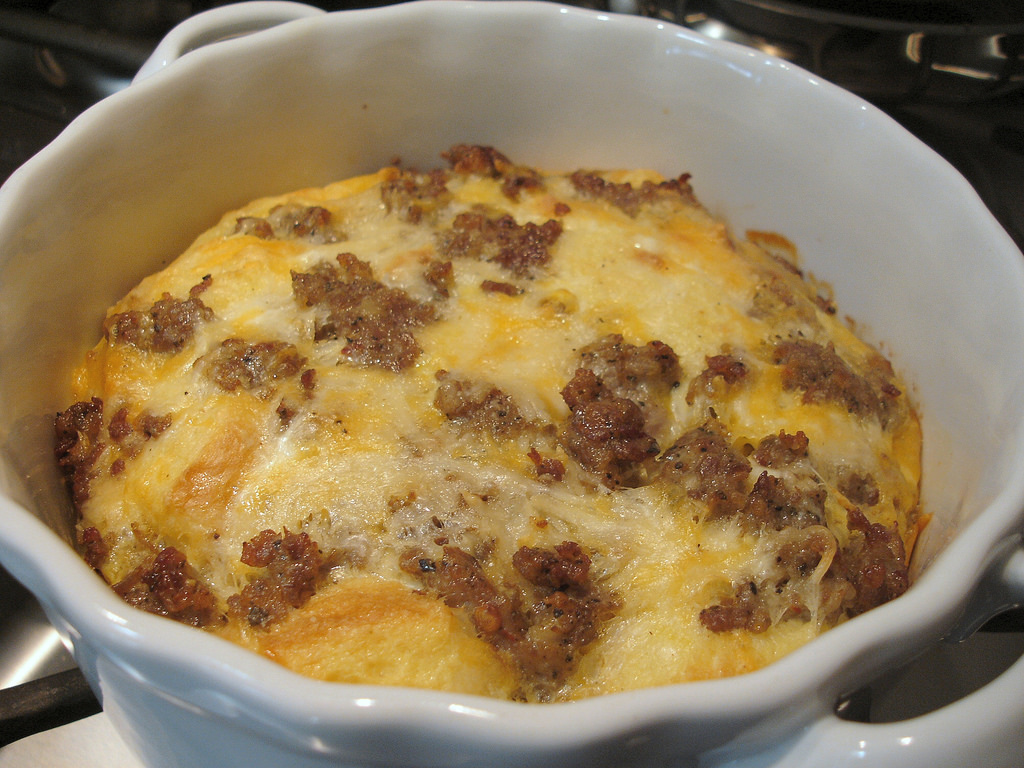plain spaghetti: (150, 343, 883, 579)
